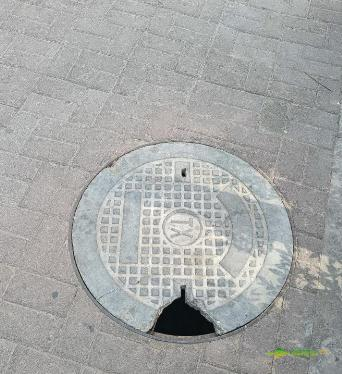wellcover: (74, 138, 297, 345)
